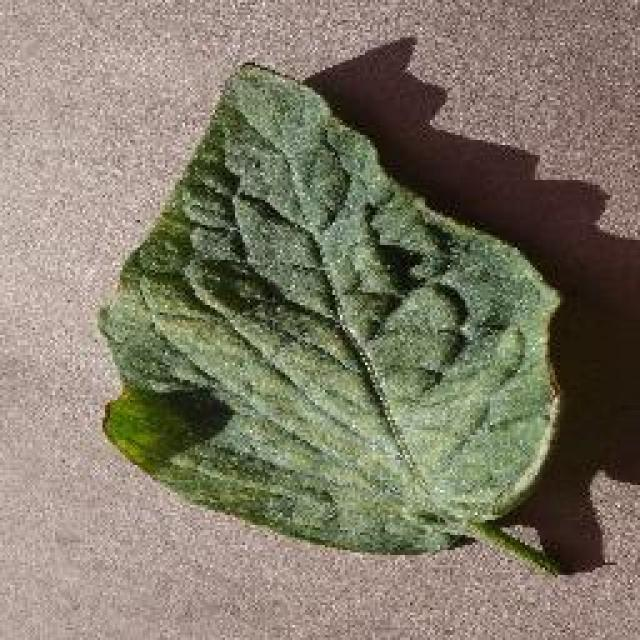Tomato mosaic virus leaf: (96, 59, 569, 561)
